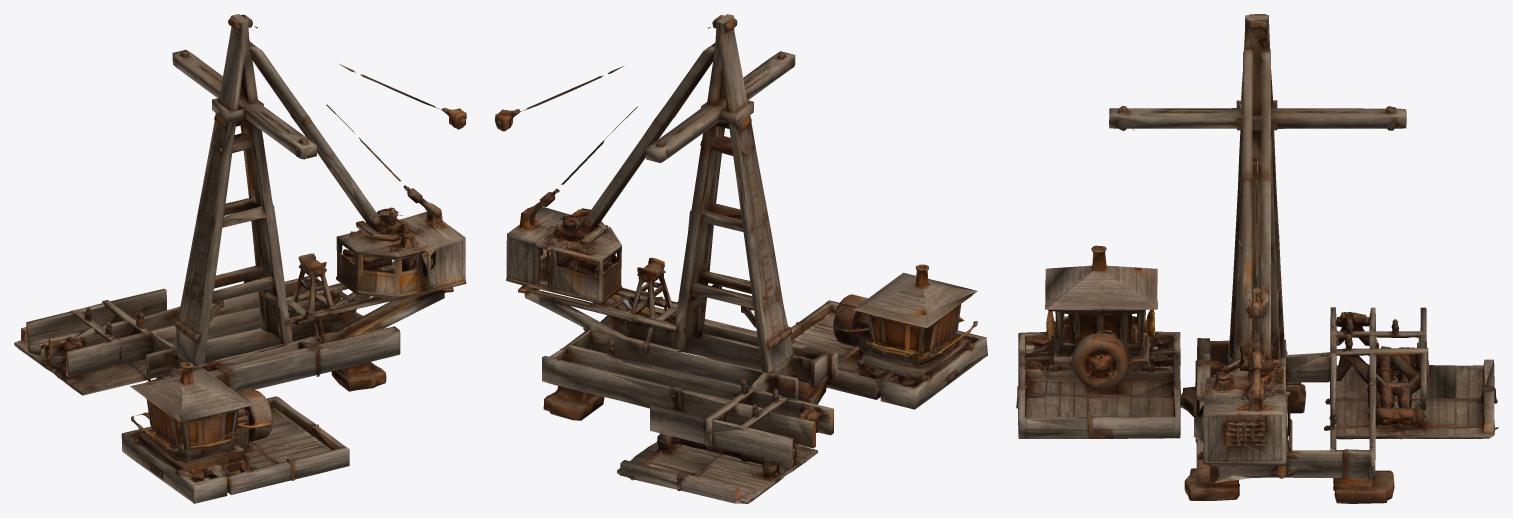
Rendered from derrick.glb.
3 renders of one model, left to right at view 1: azimuth 30°, elevation 25°; view 2: azimuth 150°, elevation 25°; view 3: azimuth 270°, elevation 25°, orthographic. The views are drawn at different scales.
Parts seen in each view (by area): view 1: output_unwrapped; view 2: output_unwrapped; view 3: output_unwrapped.
Part boxes in pixels (bbox=[...]): output_unwrapped: bbox=[14, 14, 466, 503]; output_unwrapped: bbox=[495, 14, 987, 503]; output_unwrapped: bbox=[1016, 14, 1498, 503].
Size of the model in its own units: 5.78 by 5.4 by 5.62.
1 material, 1 textured.
